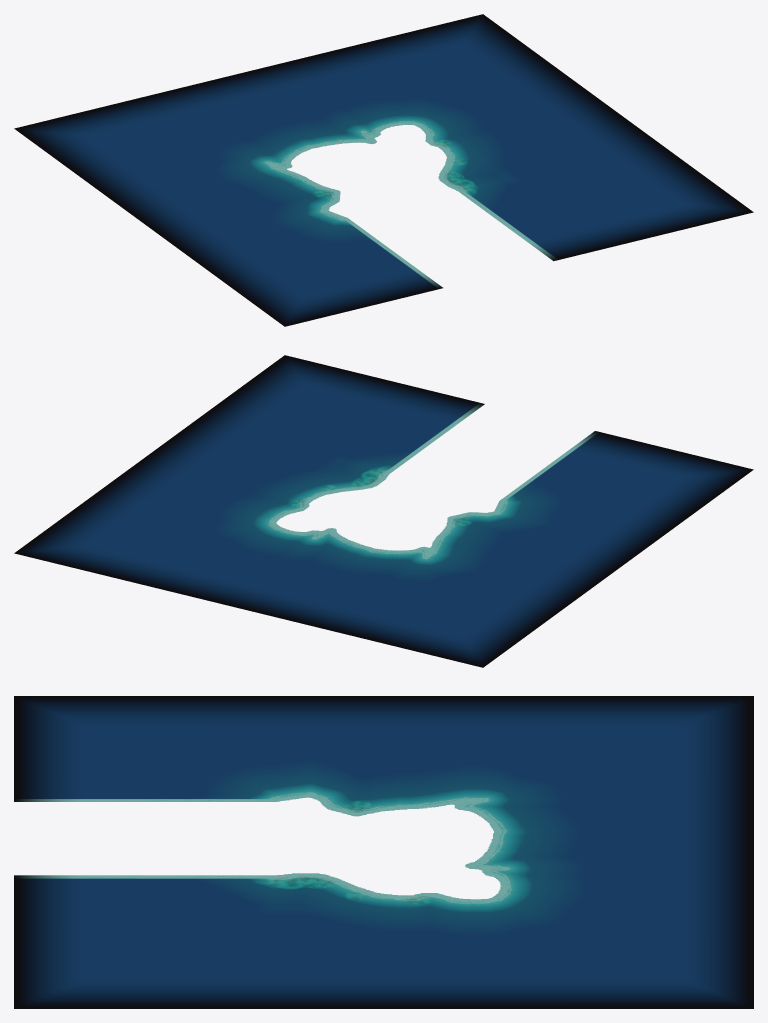
Rendered from ISL_Ocean.fbx.
3 renders of one model, top to bottom at view 1: azimuth 30°, elevation 25°; view 2: azimuth 150°, elevation 25°; view 3: azimuth 270°, elevation 25°, orthographic. The views are drawn at different scales.
Visible parts, largest first — view 1: ISL_Ocean.001; view 2: ISL_Ocean.001; view 3: ISL_Ocean.001.
Boxes of the visible parts, x1,y1,x2,y2 form: ISL_Ocean.001: (14, 14, 753, 326); ISL_Ocean.001: (14, 355, 753, 667); ISL_Ocean.001: (14, 696, 753, 1008).
Bounding box in the file's own units: 700 × 0 × 700.
